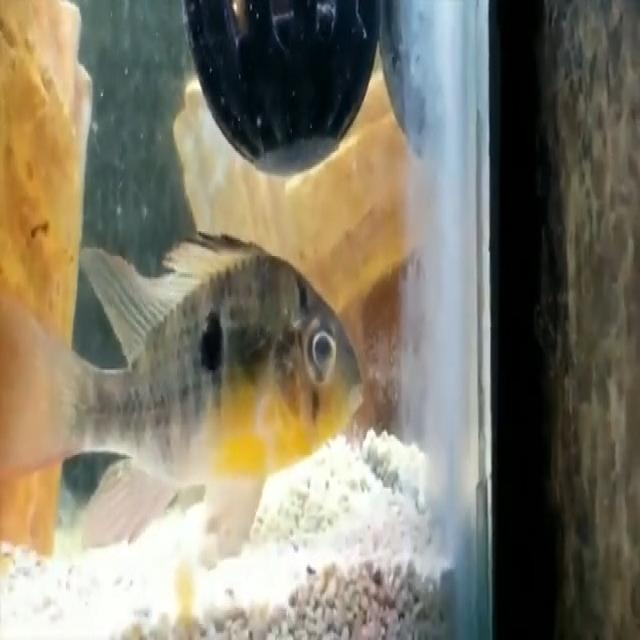fish: (1, 239, 390, 577)
